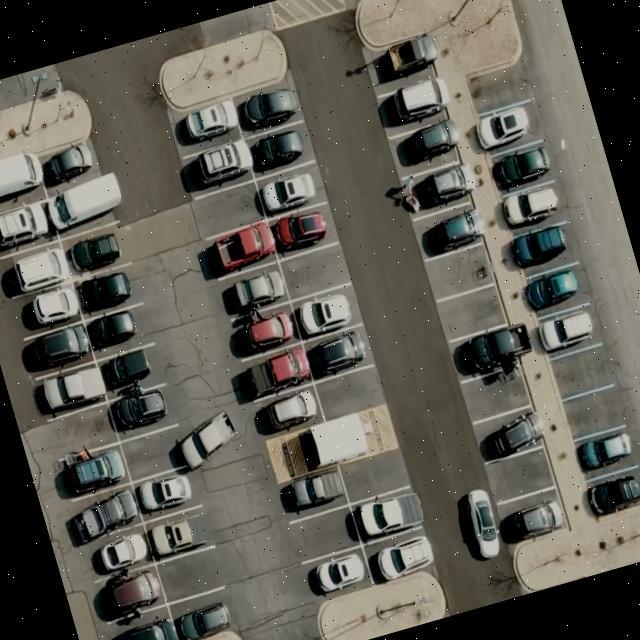space-empty: (40, 400, 120, 462), (460, 361, 537, 422), (188, 178, 264, 238), (284, 504, 360, 564), (423, 240, 496, 302), (156, 543, 232, 602), (436, 282, 508, 342), (277, 242, 350, 300), (483, 447, 556, 505), (119, 423, 192, 481), (464, 58, 537, 116), (338, 446, 408, 504), (314, 365, 384, 422), (547, 344, 617, 401), (560, 383, 629, 440)
space-occupied: (266, 409, 377, 481), (42, 168, 125, 236), (374, 69, 456, 133), (448, 318, 528, 382), (213, 260, 290, 324), (55, 438, 132, 502), (387, 115, 465, 178), (348, 483, 424, 547), (28, 362, 108, 422), (249, 379, 325, 442), (178, 136, 256, 197), (235, 341, 314, 401), (493, 175, 568, 237), (142, 502, 218, 562), (66, 480, 142, 540), (400, 160, 476, 220), (289, 280, 362, 342), (81, 521, 156, 581), (20, 320, 95, 380), (92, 563, 168, 622), (0, 237, 71, 300), (361, 525, 435, 585), (72, 258, 146, 318), (58, 220, 132, 280), (168, 96, 242, 156), (471, 404, 545, 464), (362, 30, 436, 90), (201, 218, 277, 276), (471, 96, 544, 156), (412, 201, 486, 260), (484, 138, 559, 196), (299, 542, 374, 600), (228, 302, 304, 359), (277, 462, 349, 522), (506, 218, 578, 278), (108, 380, 178, 440), (254, 160, 326, 218), (520, 258, 592, 316), (12, 280, 84, 338), (302, 323, 372, 382), (246, 119, 316, 178), (266, 200, 337, 258), (130, 464, 202, 521), (82, 304, 155, 360), (34, 134, 104, 191), (532, 302, 603, 358), (572, 424, 640, 482), (496, 492, 568, 546), (234, 80, 302, 136), (167, 587, 238, 640), (0, 192, 56, 259), (96, 344, 162, 396), (0, 149, 47, 217), (584, 467, 640, 518), (104, 607, 179, 640)
